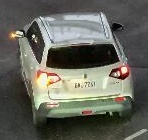license_plate: (74, 80, 97, 89)
